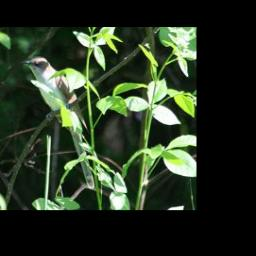Cuckoo: (20, 56, 95, 188)
